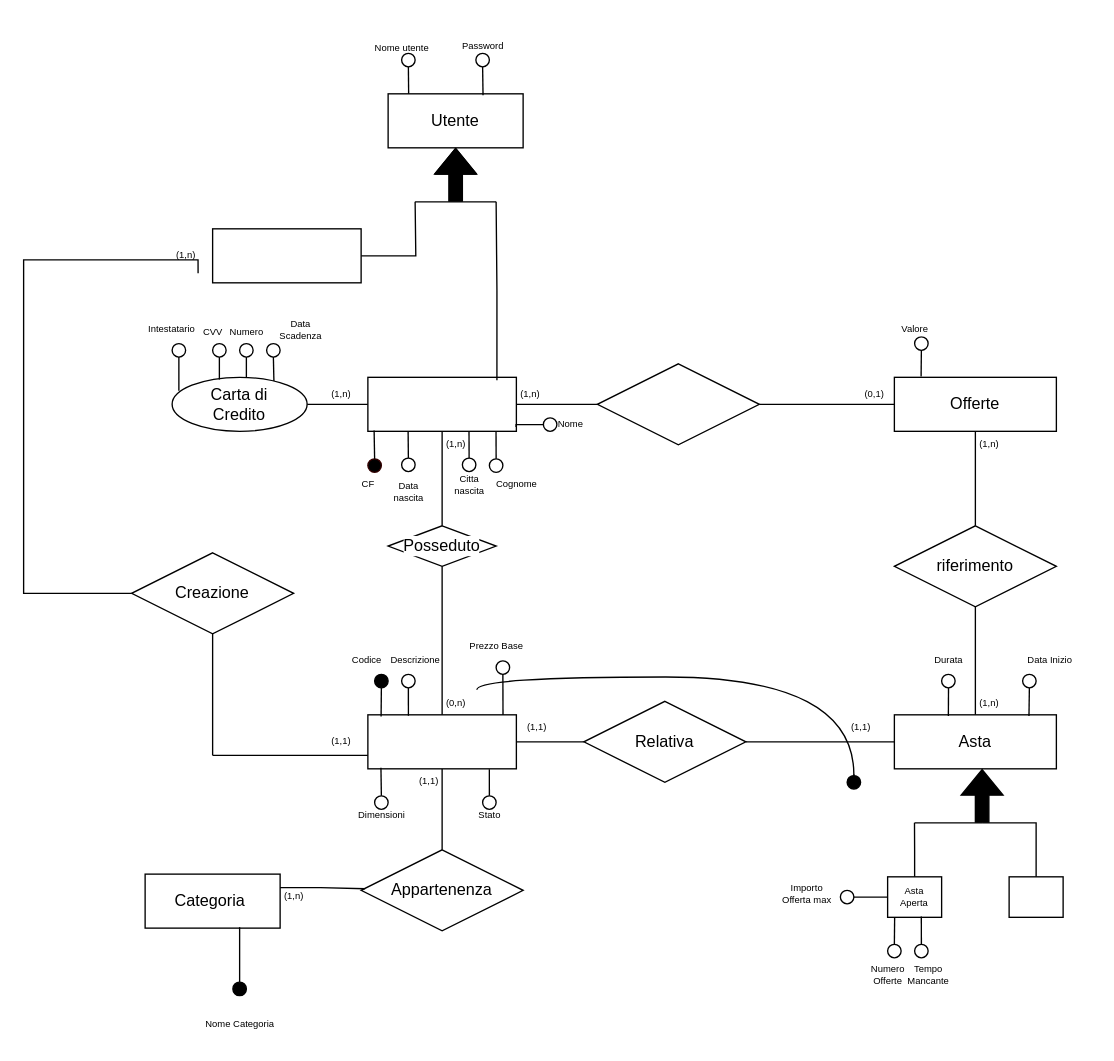
Image size: 1114x1061. Some labels were removed from this diagram. Here are the shapes that lost their labels. From the top down, the box of each, then its label:
(211, 227, 361, 283): Amministratore
(367, 376, 516, 431): Cliente
(596, 362, 759, 445): Formulare
(367, 713, 516, 769): Oggetto
(1008, 875, 1063, 917): Nuova Asta
